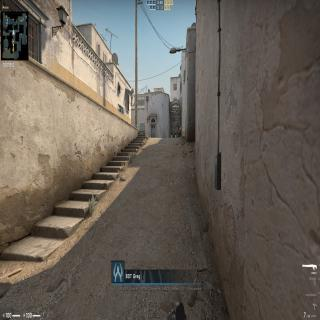T-Head: (178, 124, 180, 128), (173, 132, 174, 136)
